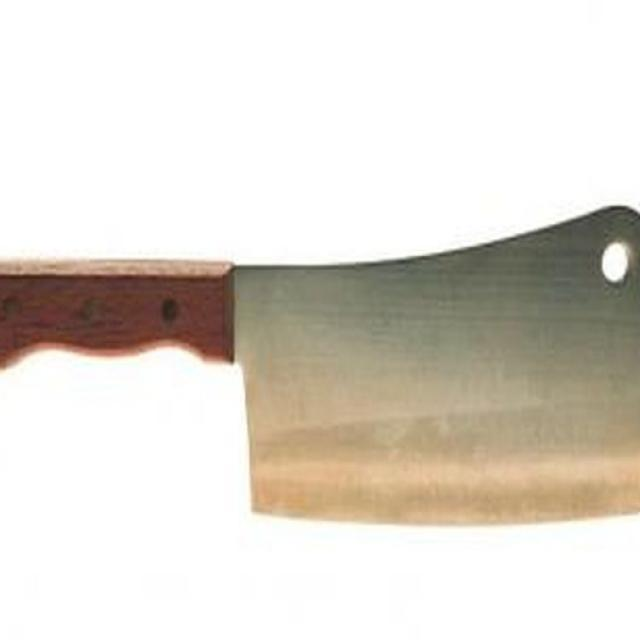Pisau: (6, 197, 630, 541)
